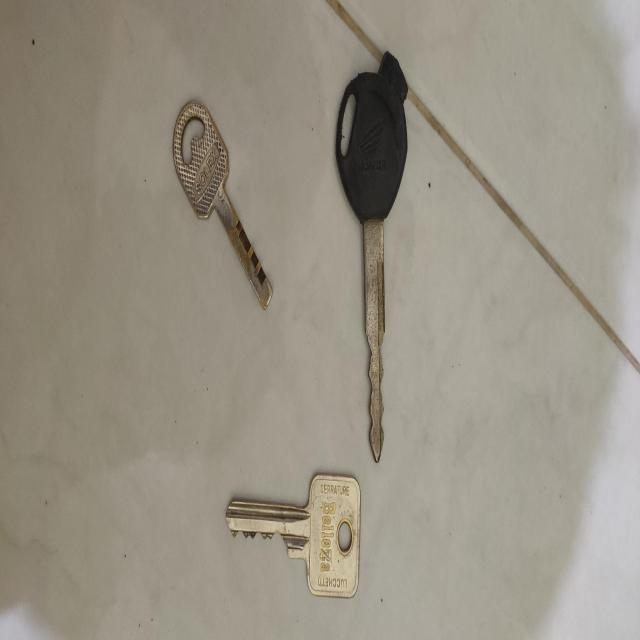kunci_kos: (225, 467, 367, 614)
kunci_motor: (330, 49, 414, 474)
kunci_pagar: (170, 93, 275, 329)
